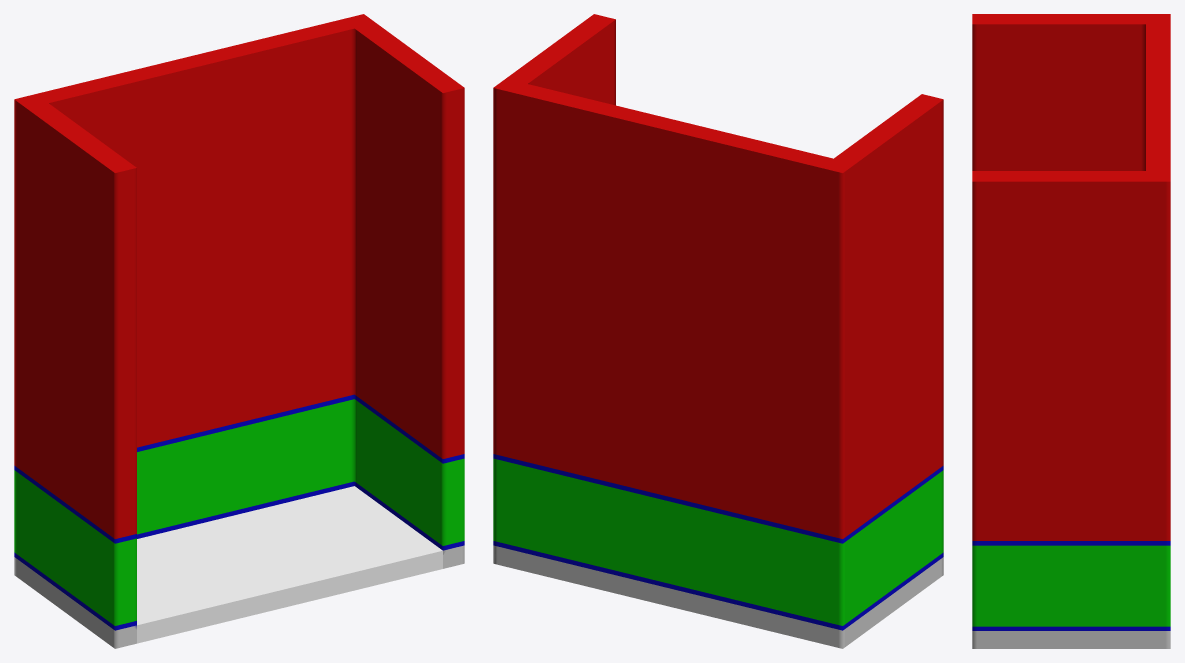
The model's file is SM_Open4x2.fbx.
3 views of the same model, side by side, from view 1: azimuth 30°, elevation 25°; view 2: azimuth 150°, elevation 25°; view 3: azimuth 270°, elevation 25° (orthographic).
Visible parts, largest first — view 1: SM_Open4x2; view 2: SM_Open4x2; view 3: SM_Open4x2.
Part boxes in pixels (bbox=[...]): SM_Open4x2: bbox=[14, 14, 464, 648]; SM_Open4x2: bbox=[493, 14, 943, 648]; SM_Open4x2: bbox=[972, 14, 1170, 648].
Bounding box in the file's own units: 400 × 520 × 200.
